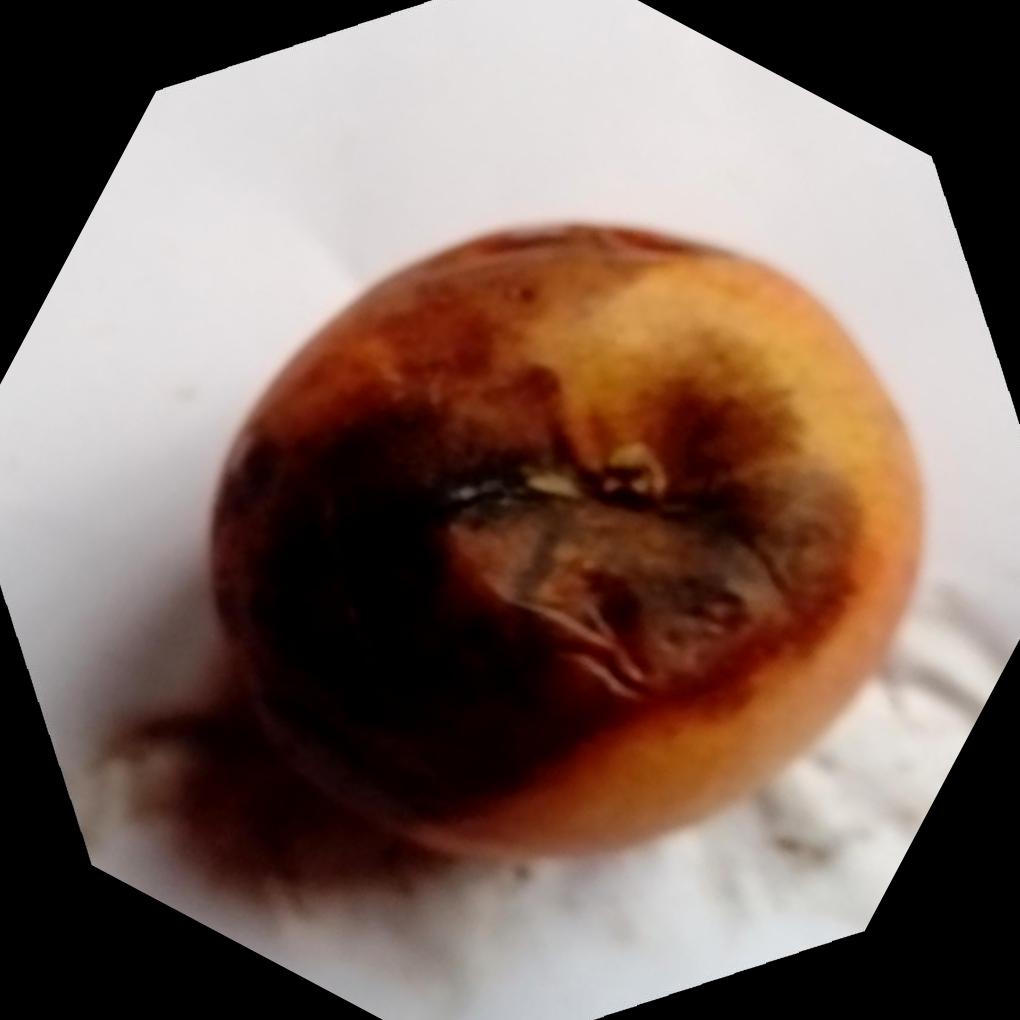FreshOrange: (130, 224, 926, 901)
